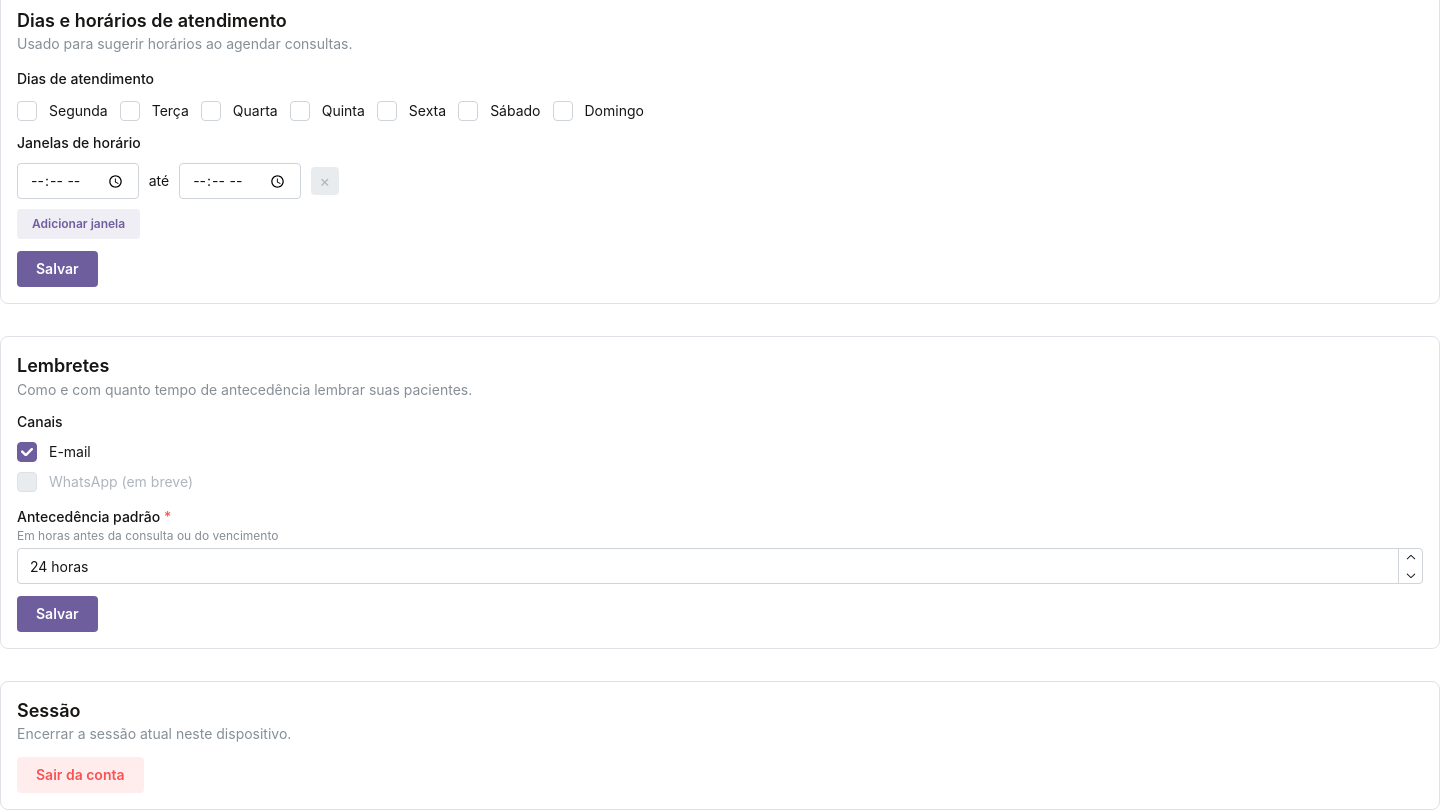
SettingsPage › seção lembretes: salva canal e antecedência via adapter
(page scrolled)
Expected: the element with test id "settings-section-lembretes" is shown, [0,336,1439,649]
Click the submit button: (57,614) [17,596,98,632]
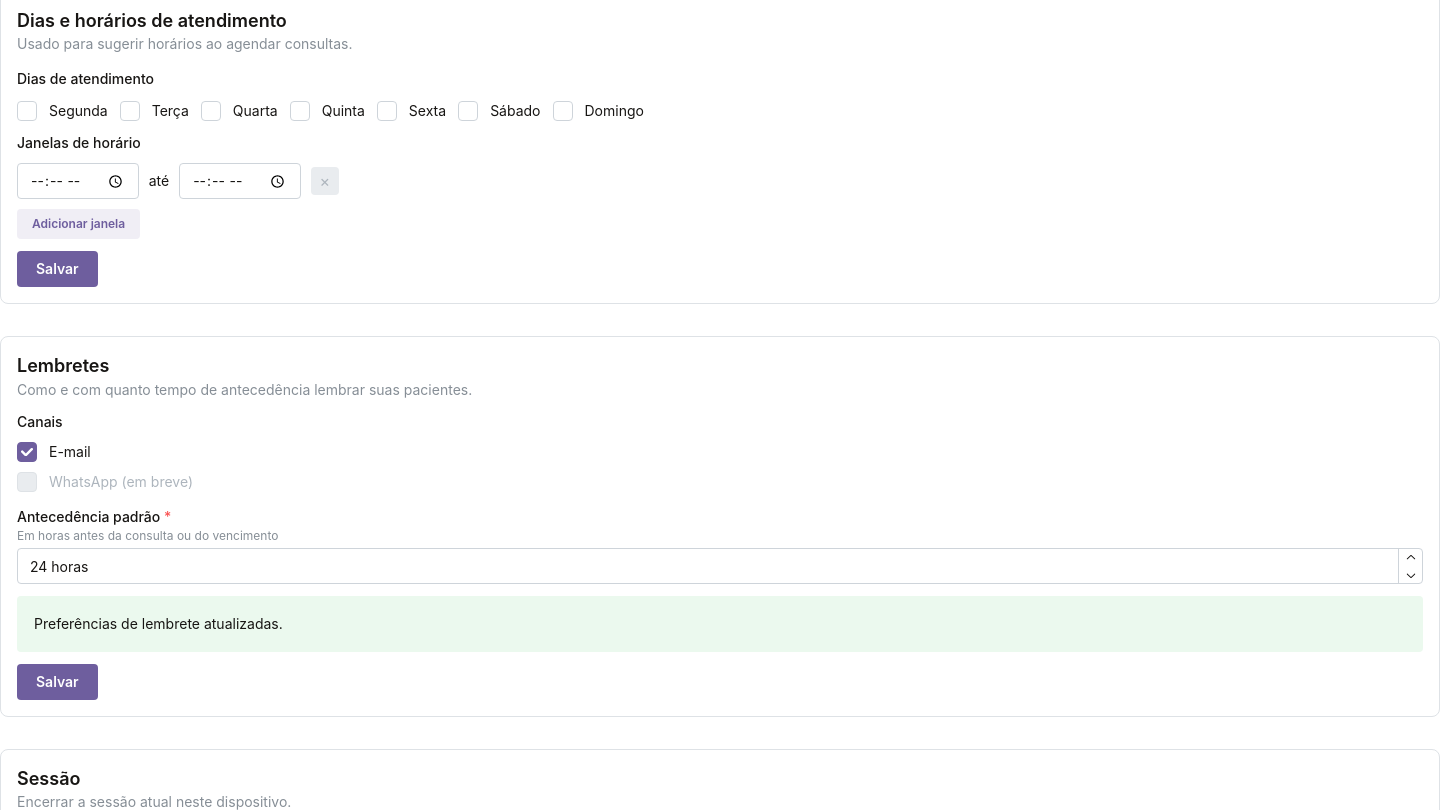
Now the message "Preferências de lembrete atualizadas." is shown, box [17,596,1423,652]
